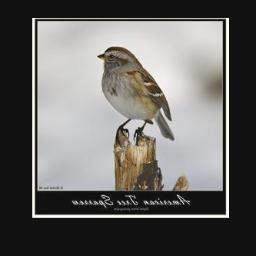Sparrow: (98, 45, 175, 147)
